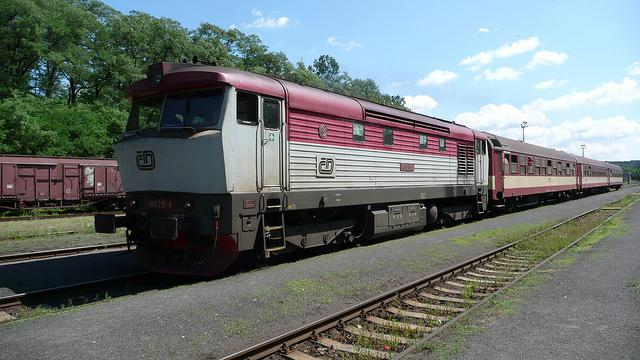Train: (91, 63, 626, 278), (3, 159, 119, 215)
